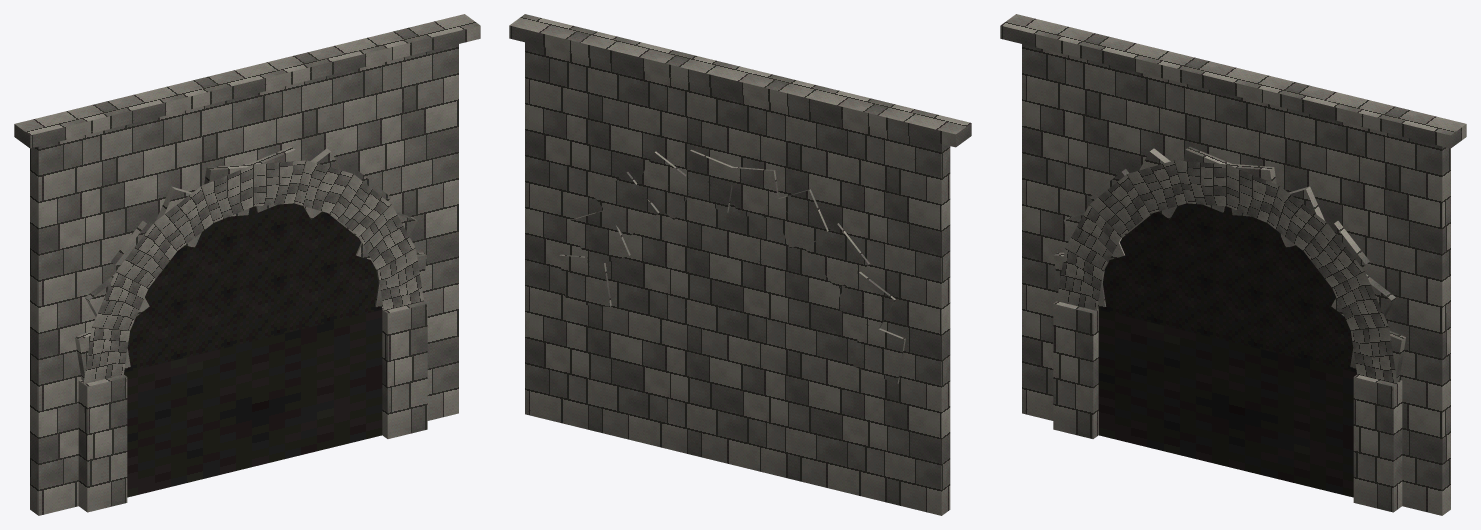
The model's file is tunel.obj.
3 views of the same model, side by side, from view 1: azimuth 30°, elevation 25°; view 2: azimuth 150°, elevation 25°; view 3: azimuth 330°, elevation 25° (orthographic).
Visible parts, largest first — view 1: tunel; view 2: tunel; view 3: tunel.
Boxes of the visible parts, left/top/right/bottom form: tunel: left=14, top=14, right=480, bottom=515; tunel: left=509, top=14, right=971, bottom=515; tunel: left=1000, top=14, right=1466, bottom=515.
Bounding box in the file's own units: 9 × 7.43 × 0.65.
2 materials, 2 textured.
